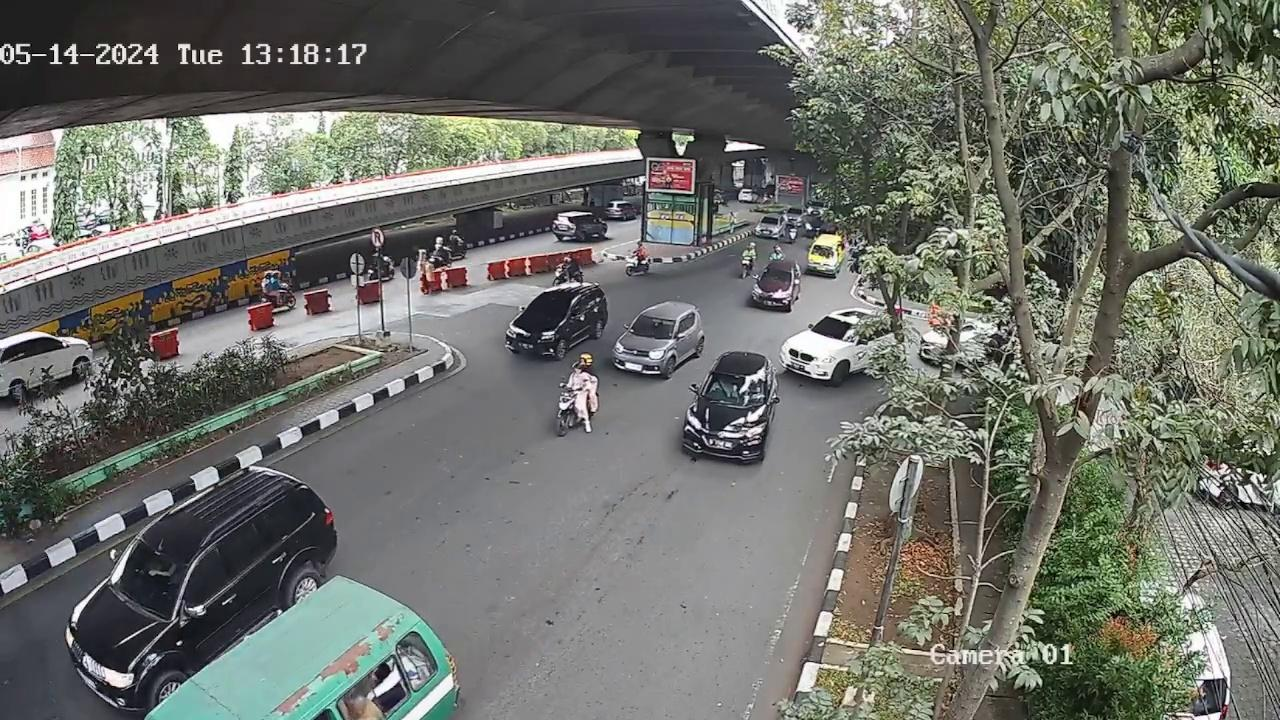pakai: (714, 379, 736, 399)
windshield: (699, 371, 766, 406), (519, 293, 580, 325), (630, 315, 675, 337)
